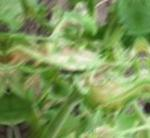Tomato leaf mosaic virus: (20, 36, 101, 81)
